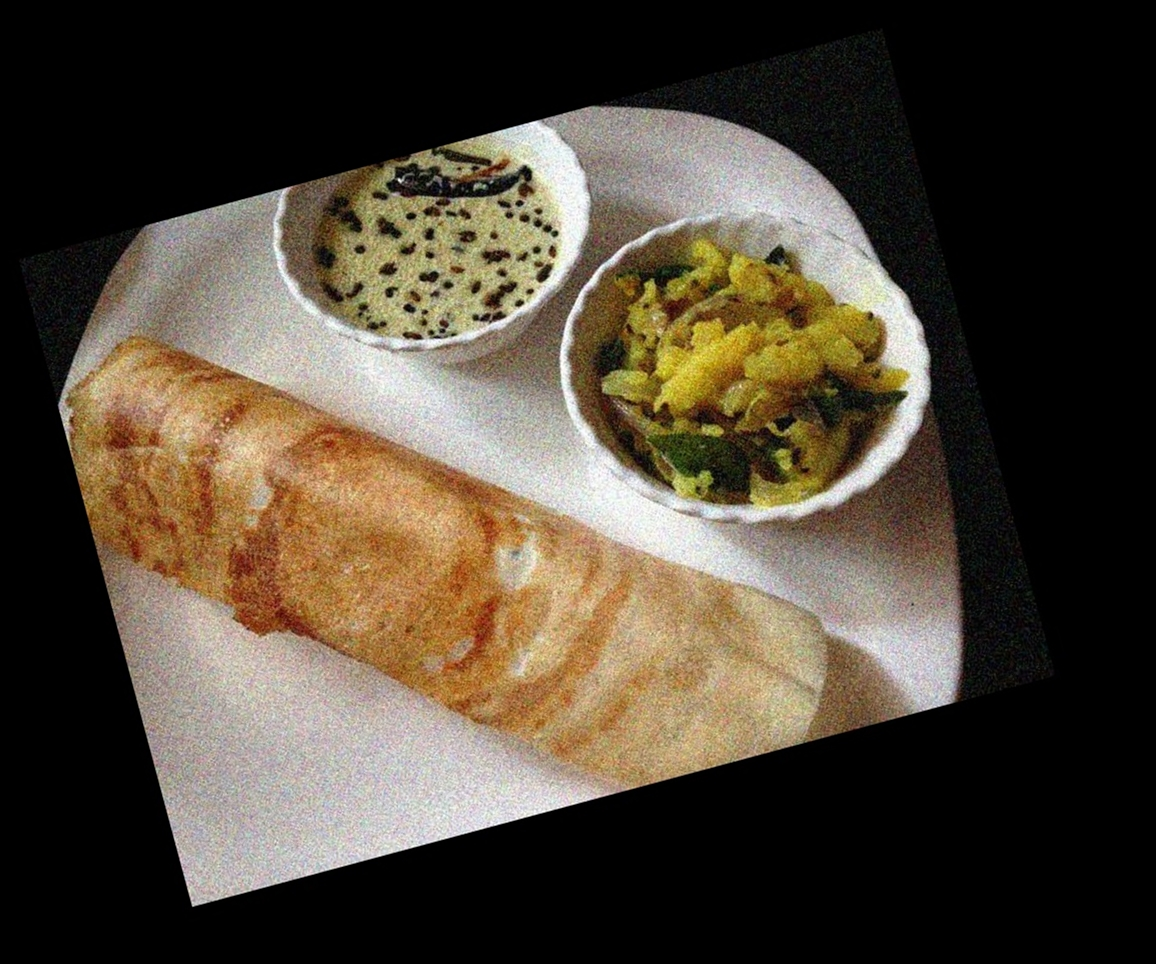dosa: (64, 339, 831, 774)
